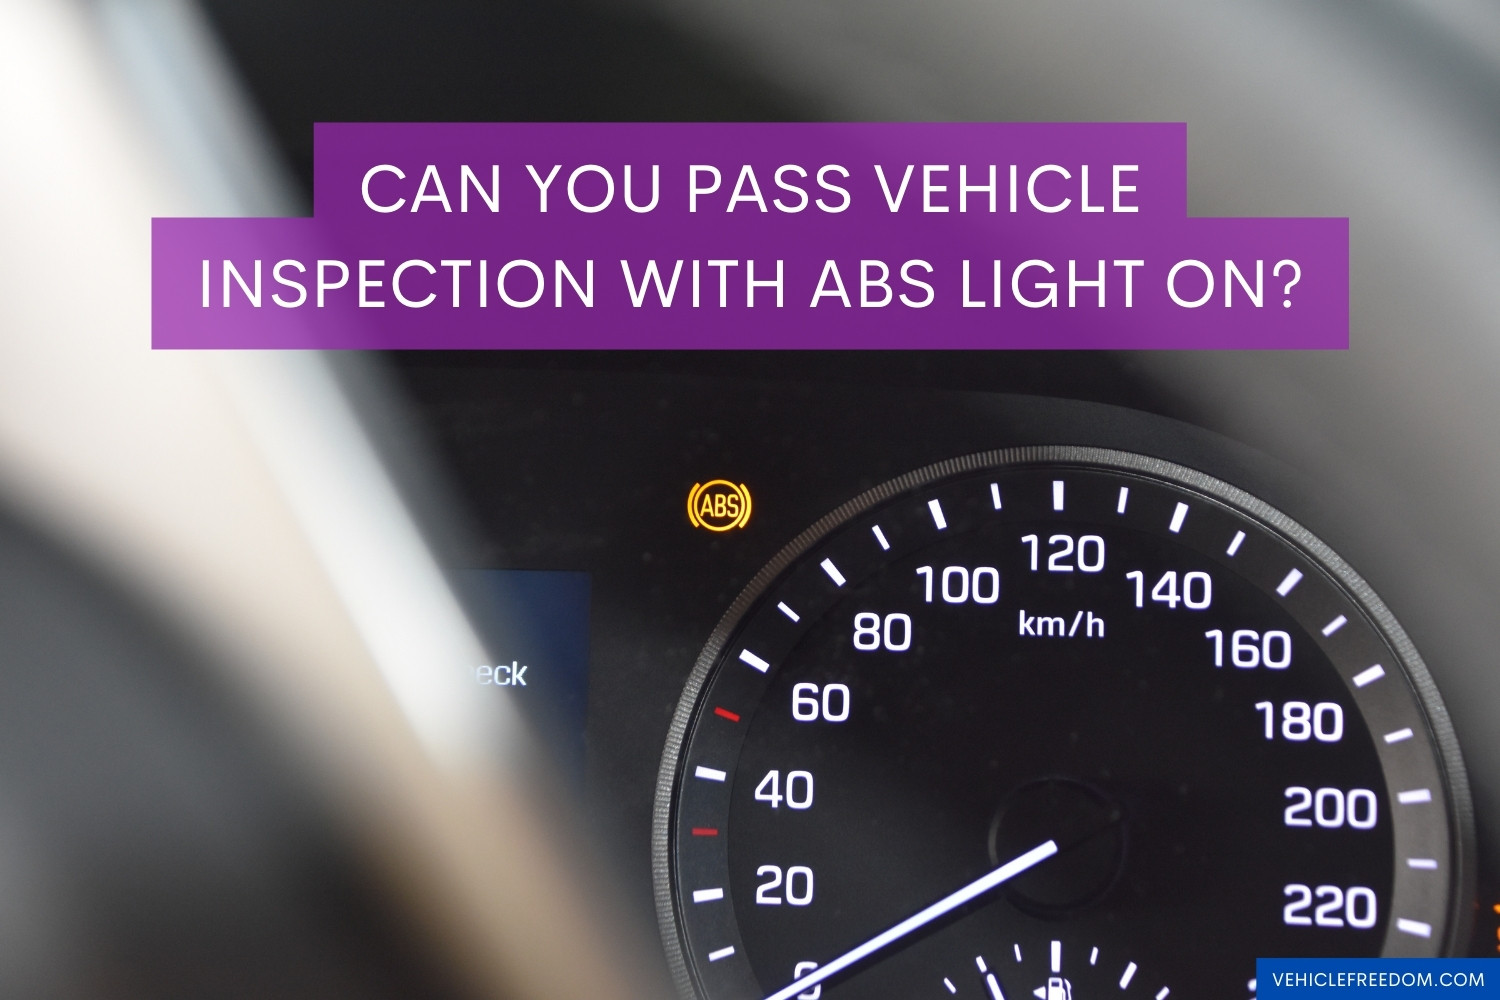ABS: (682, 474, 754, 536)
